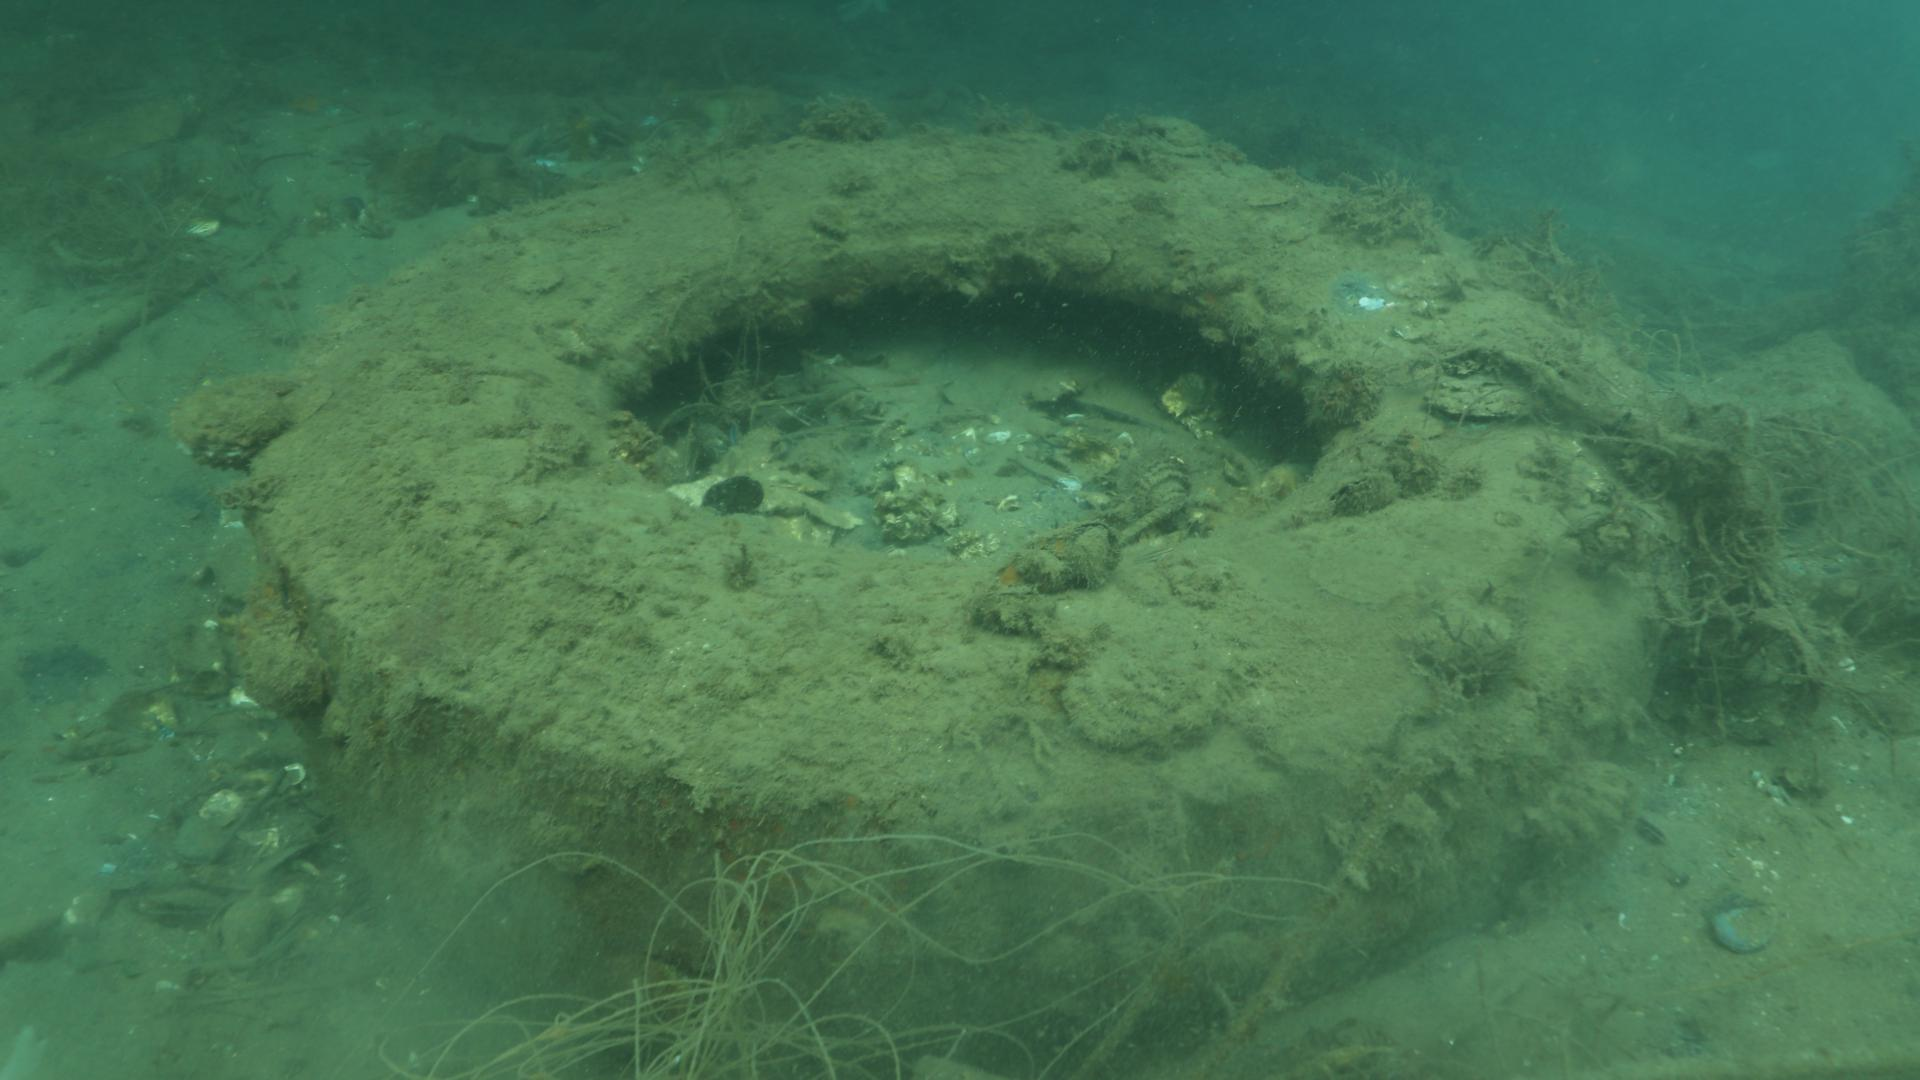tire: (247, 124, 1681, 1071)
